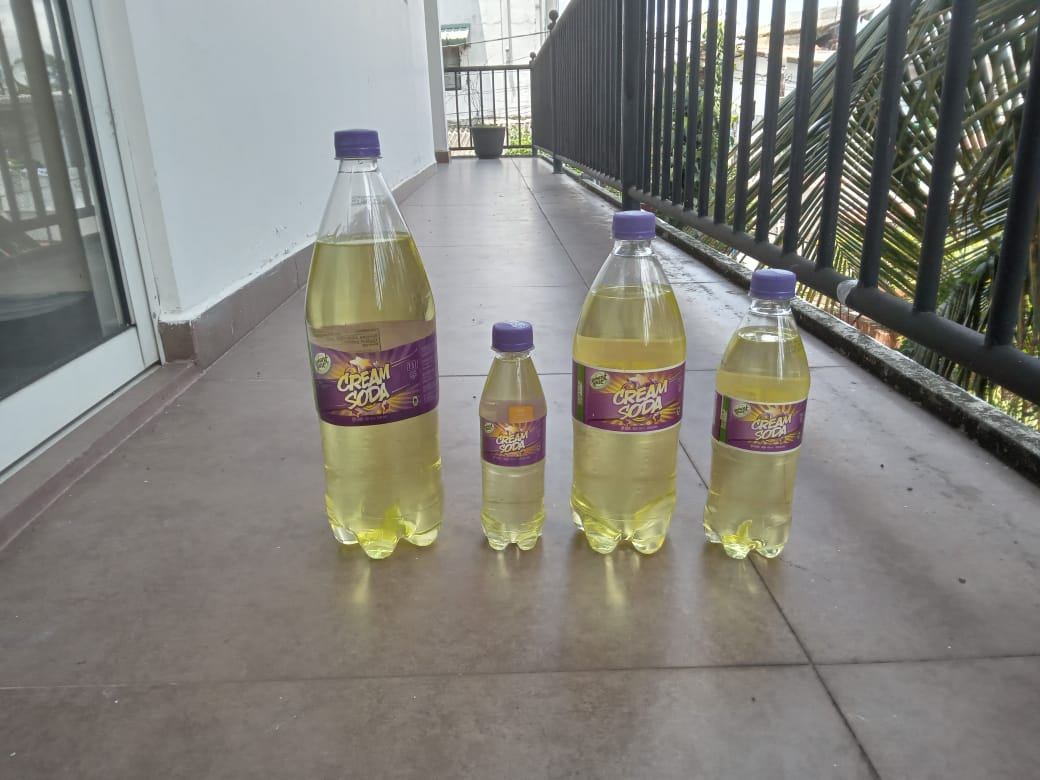L: (303, 132, 445, 563)
M: (570, 210, 687, 557)
S: (705, 271, 812, 561)
Xs: (472, 326, 557, 556)
